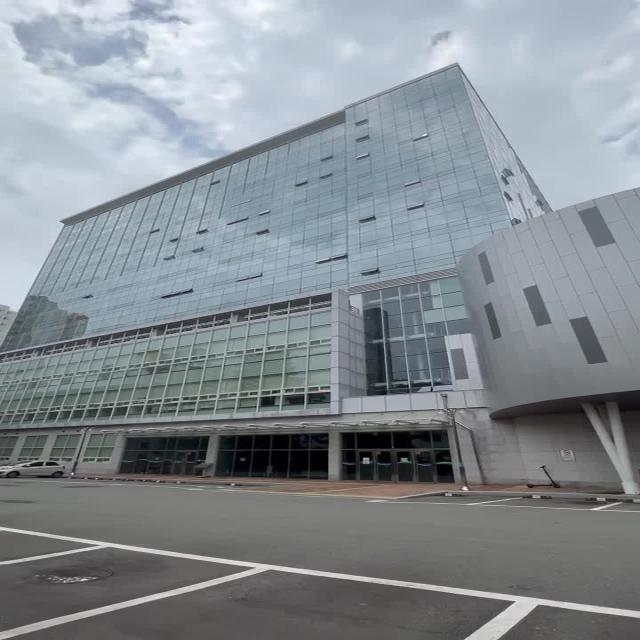building: (30, 130, 640, 468)
